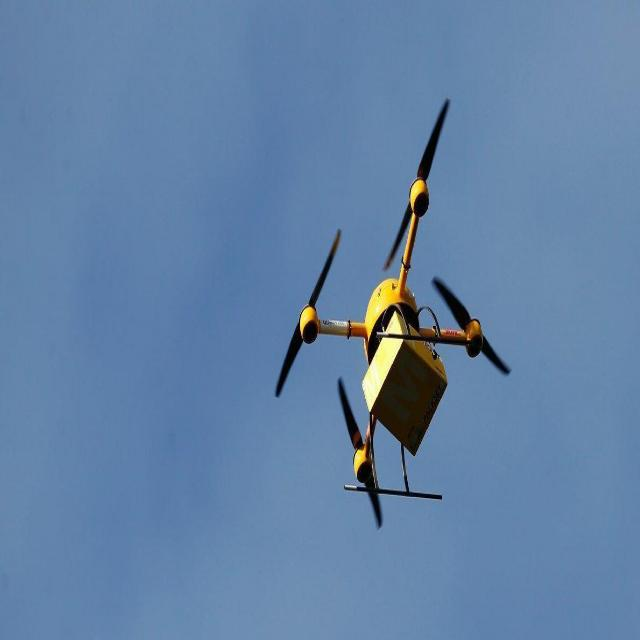UAV: (296, 156, 484, 509)
